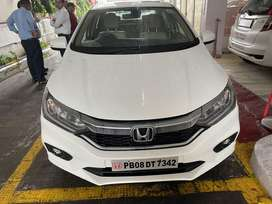PB08DT7342: (112, 155, 178, 171)
